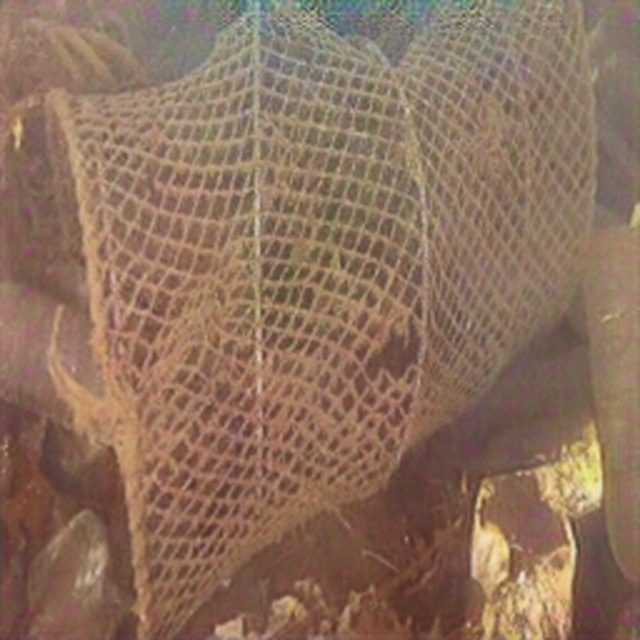mine: (42, 0, 599, 636)
